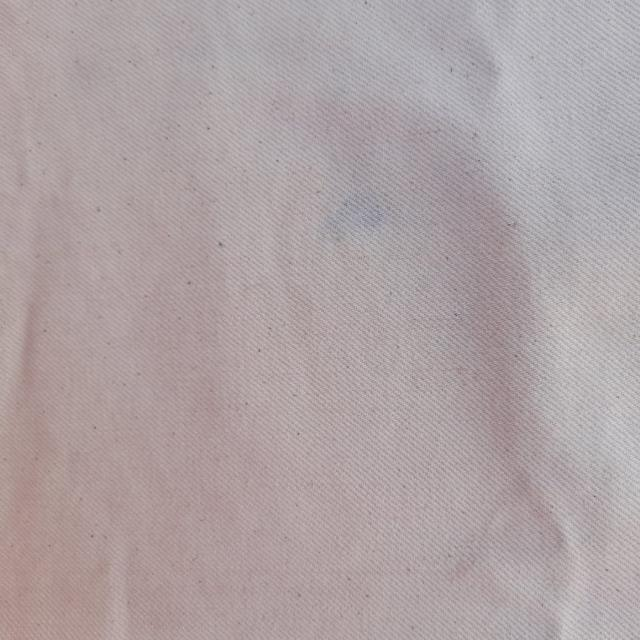taaaches: (302, 152, 402, 268)
